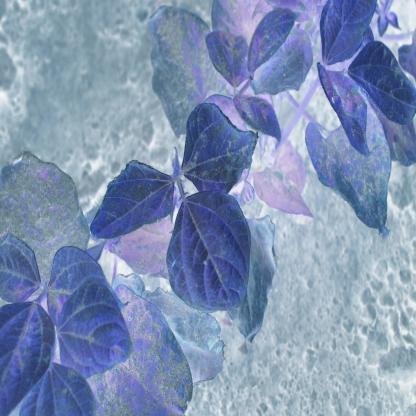soybean leaf: (165, 187, 251, 311), (180, 101, 258, 199), (89, 157, 176, 242)
